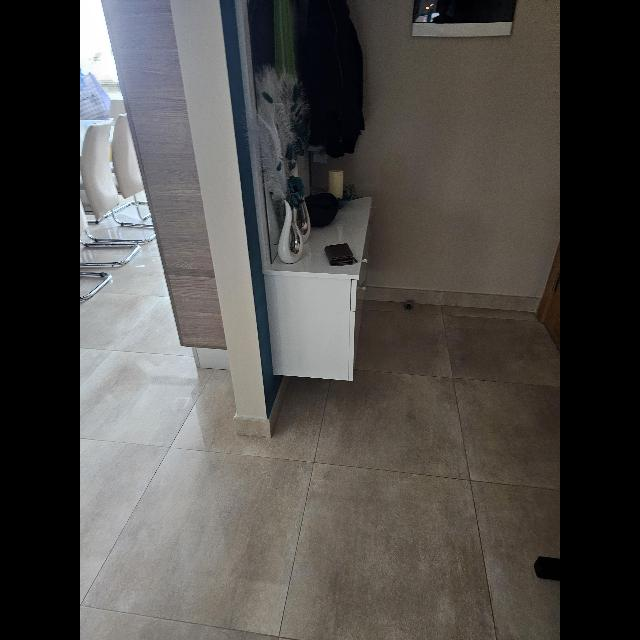Wallet: (324, 242, 358, 266)
